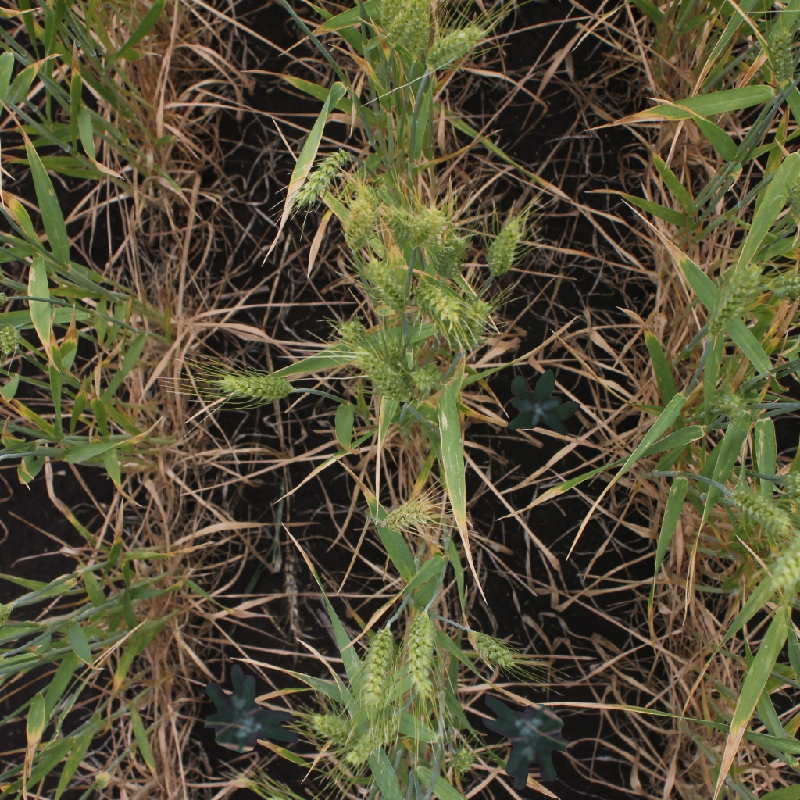spikelet: (702, 262, 763, 337), (291, 148, 353, 209), (724, 482, 792, 534), (357, 624, 399, 708), (344, 708, 401, 766), (357, 349, 413, 405), (404, 605, 438, 697), (424, 23, 485, 71), (363, 256, 410, 309), (485, 212, 524, 274), (218, 370, 294, 401), (415, 276, 463, 324), (343, 187, 379, 249), (467, 628, 519, 669), (397, 1, 434, 58), (459, 296, 494, 352), (380, 496, 433, 532), (432, 230, 471, 278), (769, 526, 799, 588), (766, 27, 797, 84), (385, 203, 423, 244), (310, 711, 356, 744), (411, 205, 447, 245), (712, 390, 750, 420), (767, 267, 800, 298), (410, 362, 443, 392), (446, 744, 476, 774), (336, 317, 366, 344), (783, 467, 800, 509), (1, 322, 22, 355)
weed: (458, 684, 579, 800), (491, 355, 592, 456), (204, 664, 299, 753)
